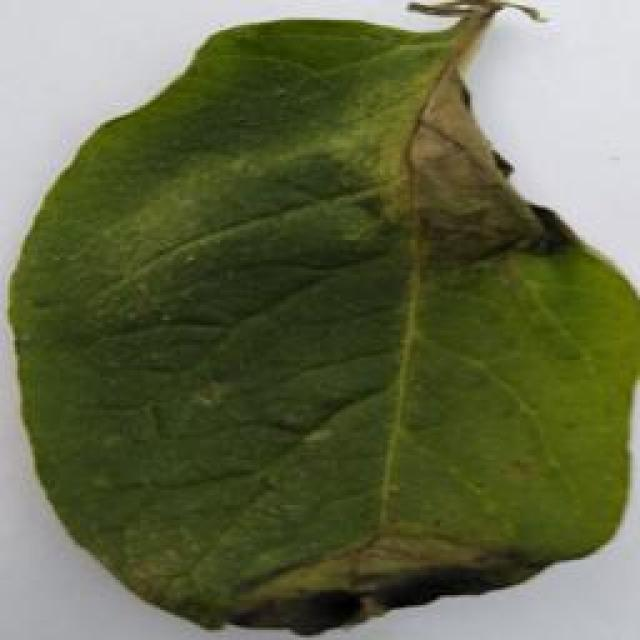Potato_Late_Blight: (13, 9, 640, 638)
